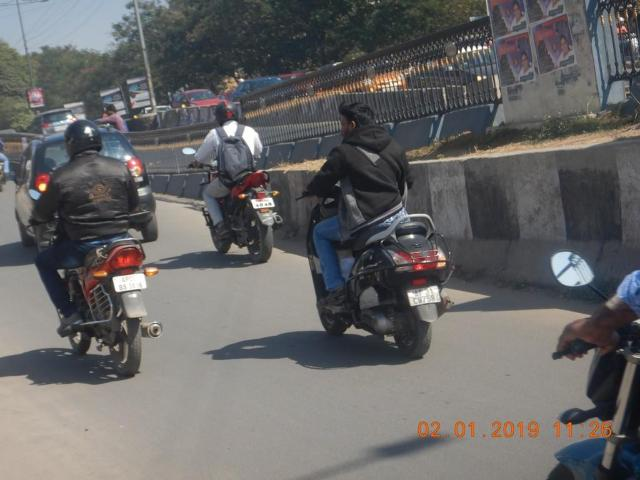helm: (64, 120, 104, 159), (216, 102, 241, 127)
motor: (293, 179, 459, 363), (27, 185, 167, 382), (181, 147, 286, 268)
non-helm: (337, 98, 380, 140)
